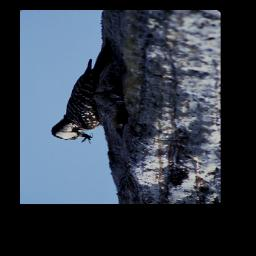Woodpecker: (50, 36, 128, 145)
